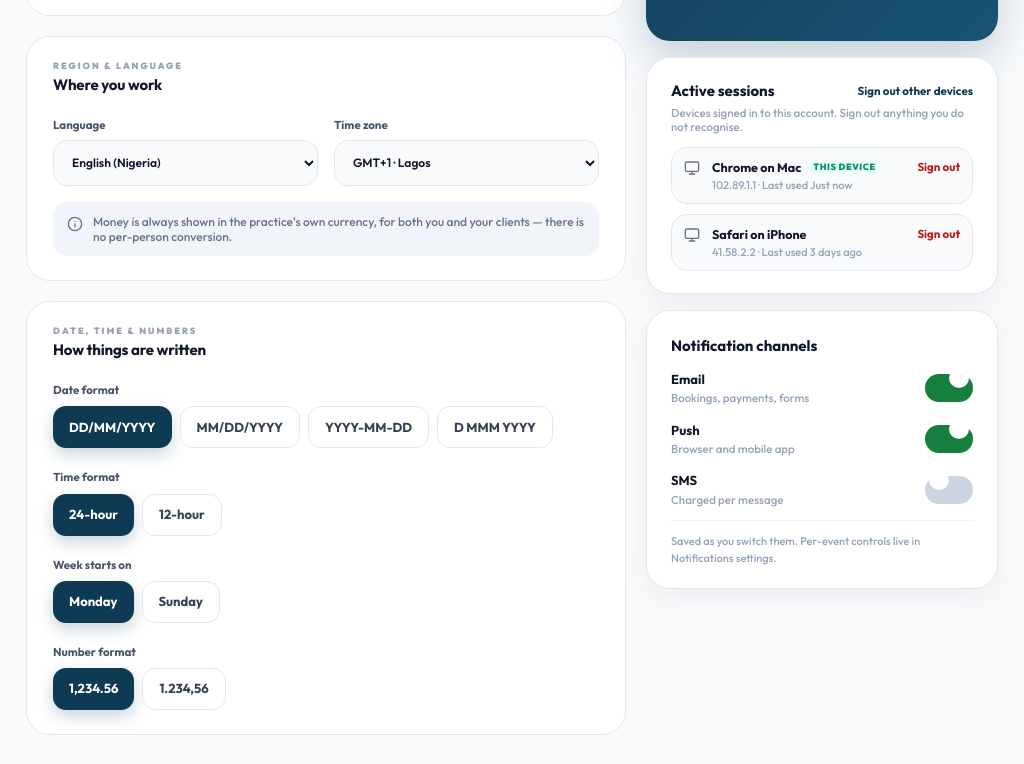
Scenario: the preview › reflects the format that is selected
(page scrolled)
Step 1. Click the radio button labelled "YYYY-MM-DD" → (368, 427), box [308, 406, 429, 448]
(page scrolled)
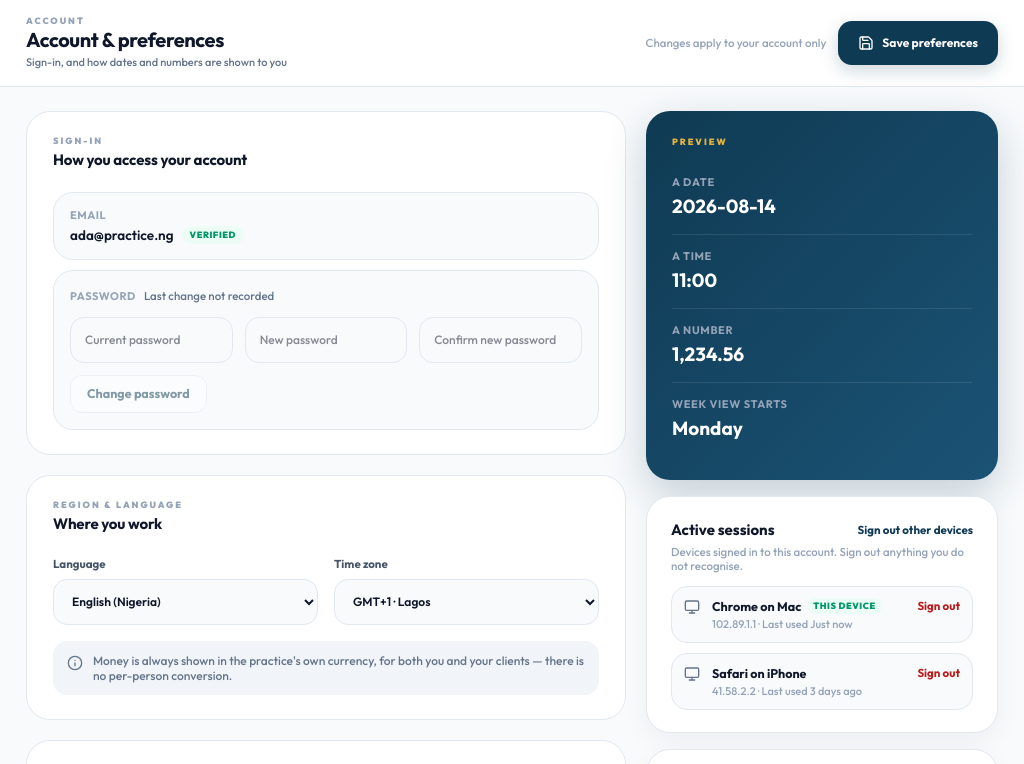
expect the text "2026-08-14" is shown: met, box [672, 194, 776, 218]
